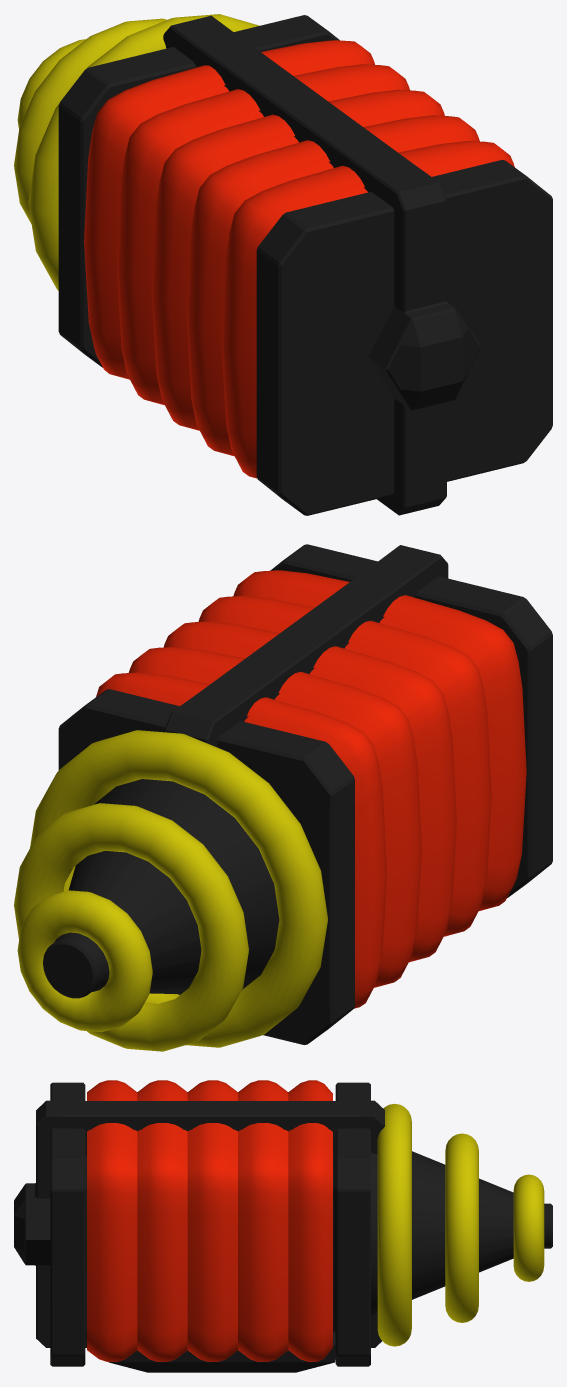
File: Sparky Hub.fbx
3 renders of one model, top to bottom at view 1: azimuth 30°, elevation 25°; view 2: azimuth 150°, elevation 25°; view 3: azimuth 270°, elevation 25°, orthographic. The views are drawn at different scales.
Visible parts, largest first — view 1: polySurface8; view 2: polySurface8; view 3: polySurface8.
Boxes of the visible parts, x1,y1,x2,y2 form: polySurface8: (14,14,552,515); polySurface8: (14,544,552,1051); polySurface8: (14,1080,552,1372).
Bounding box in the file's own units: 133 × 148 × 292.
